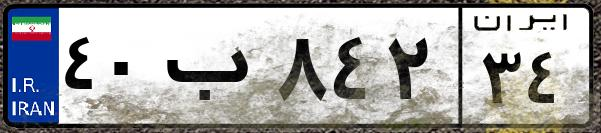0: (110, 28, 158, 98)
2: (385, 28, 445, 110)
3: (475, 38, 525, 113)
4: (330, 28, 385, 110), (57, 26, 110, 100), (525, 38, 570, 115)
8: (270, 28, 330, 110)
ب: (158, 20, 270, 120)
